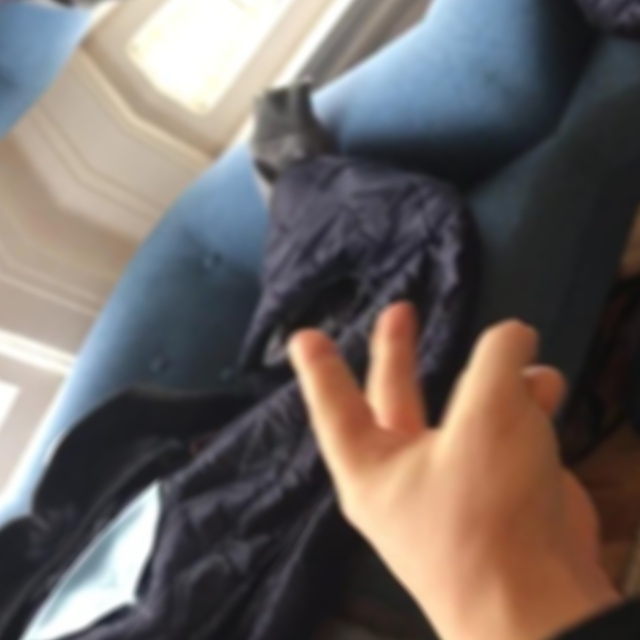Scissors: (205, 211, 640, 640)
